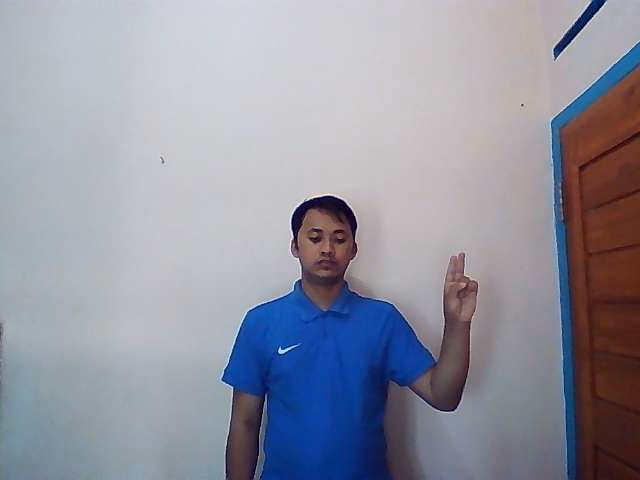U: (442, 252, 479, 323)
